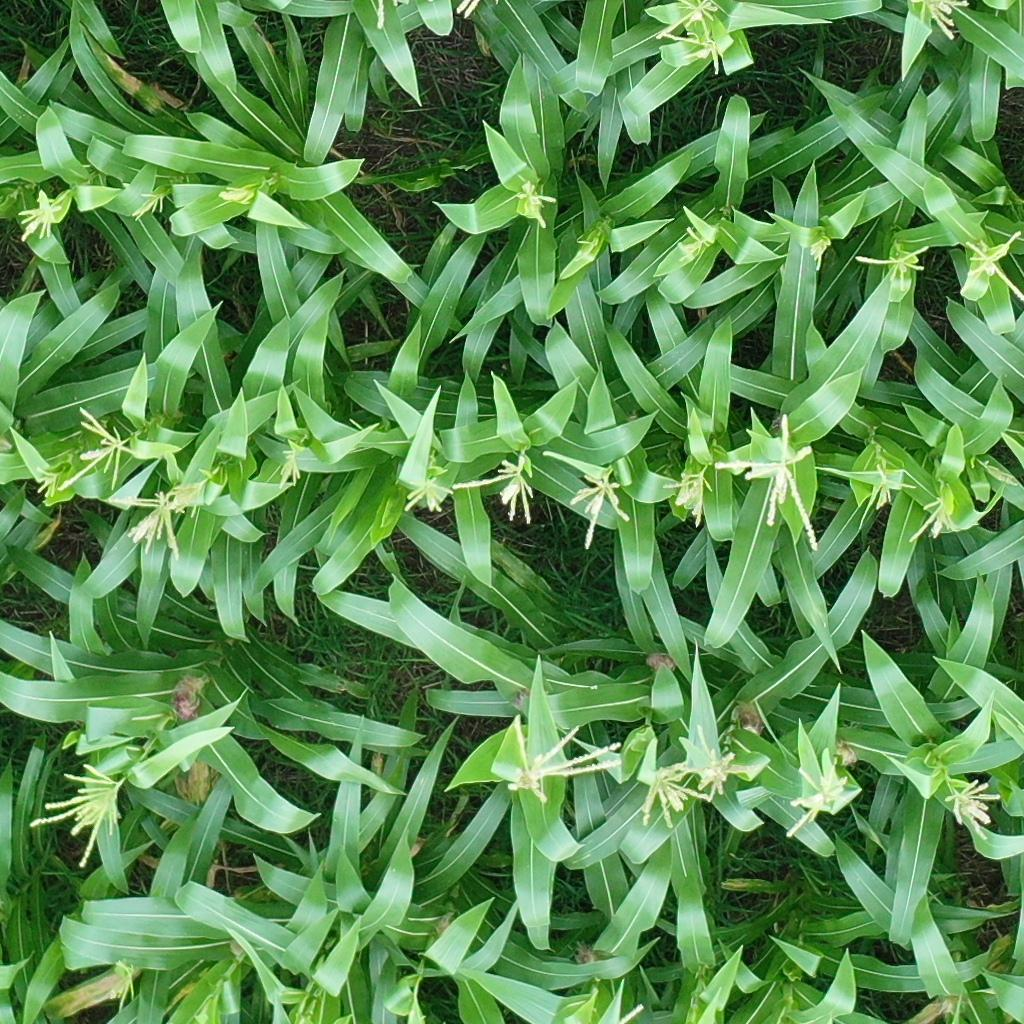Tassel: (714, 411, 826, 552), (490, 709, 627, 805), (61, 756, 135, 875), (57, 407, 141, 497), (449, 453, 547, 526), (784, 745, 861, 836), (563, 468, 635, 552), (110, 489, 190, 562), (633, 756, 712, 827), (935, 771, 1005, 846), (961, 223, 1024, 306), (851, 235, 931, 295), (692, 725, 743, 806), (6, 186, 70, 241), (657, 31, 729, 77), (662, 467, 715, 528), (910, 1, 974, 45), (665, 221, 713, 271), (867, 463, 916, 511), (399, 476, 456, 517), (511, 177, 555, 229), (659, 1, 716, 37), (911, 496, 950, 544), (105, 959, 137, 1016), (273, 439, 304, 492), (983, 457, 1022, 496), (170, 481, 213, 516), (32, 465, 62, 506), (129, 189, 169, 219), (808, 230, 829, 272), (214, 185, 253, 206)
